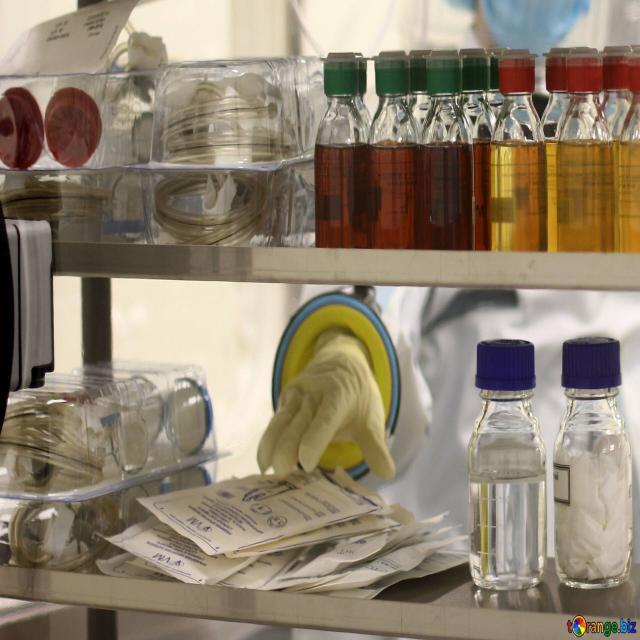plastic_bottle: (467, 337, 547, 591)
